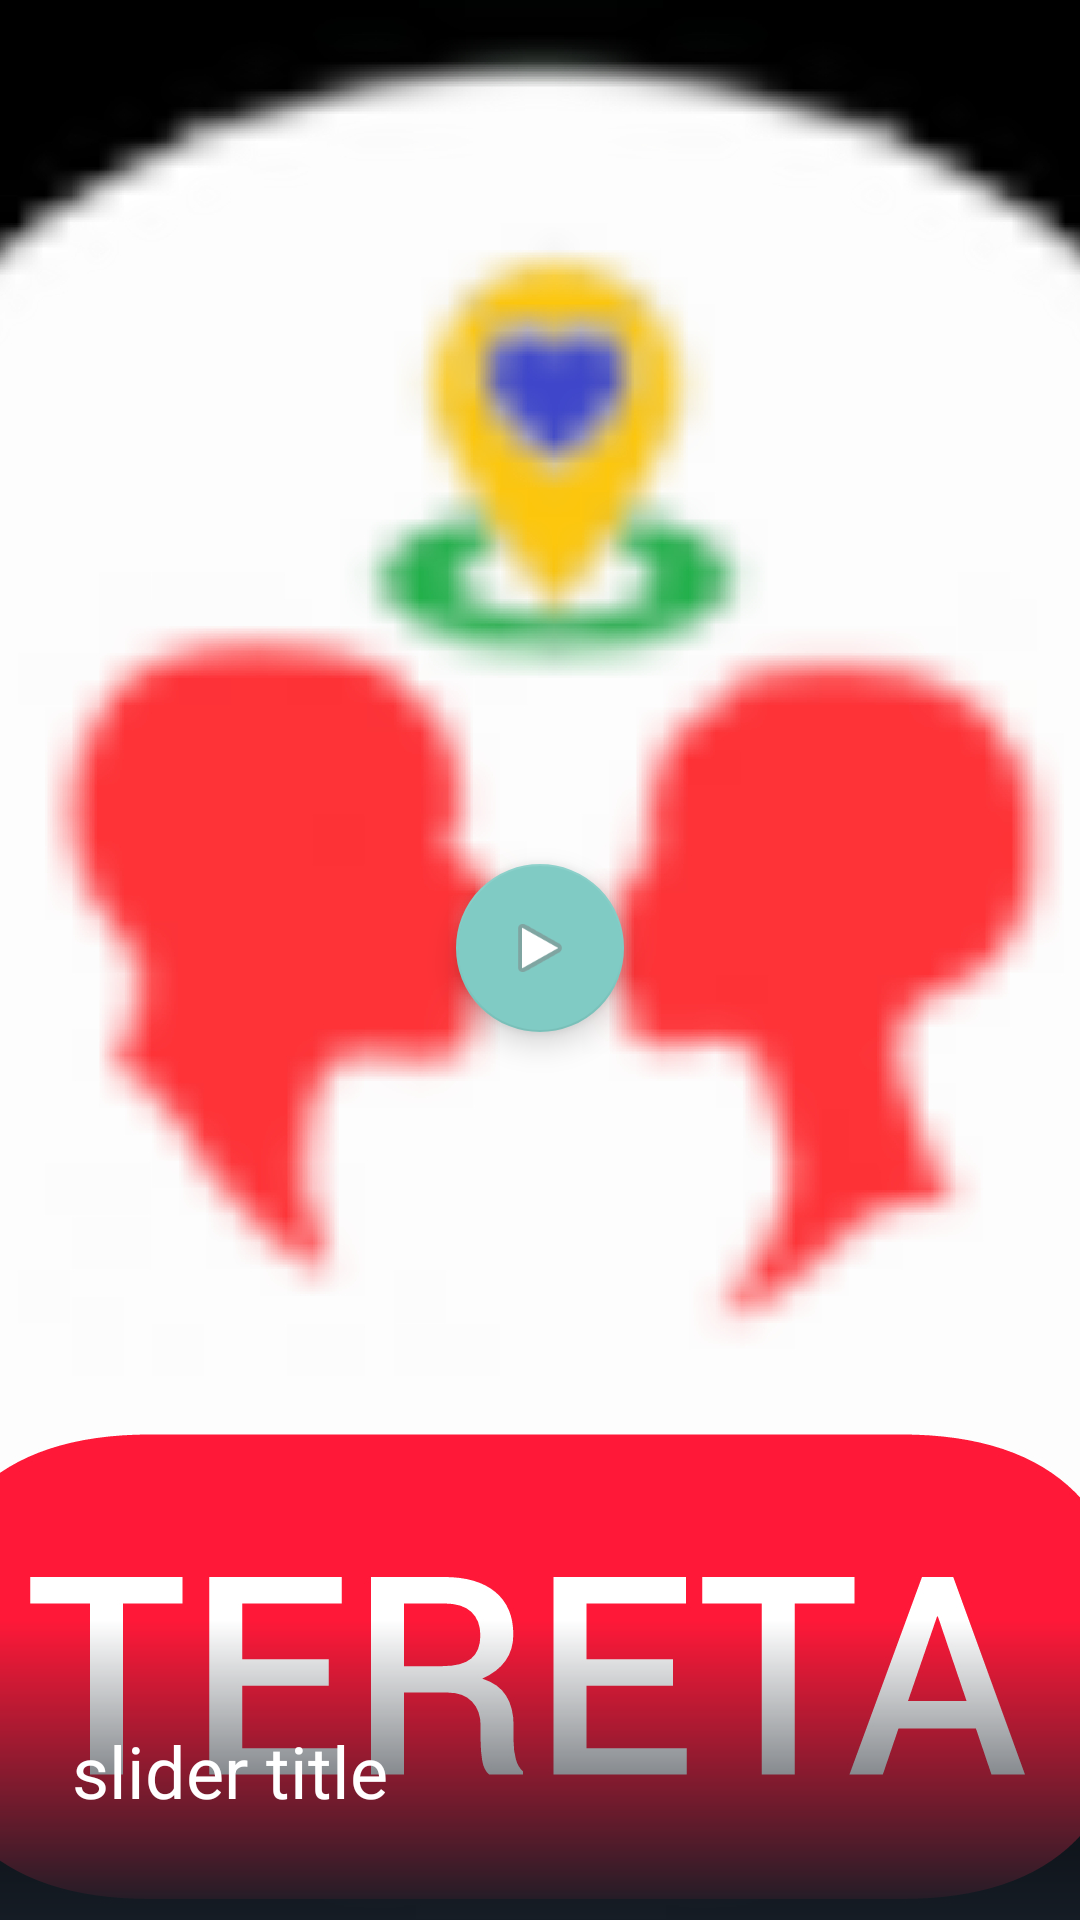

Named icons in this screenshot (1080px x 1920px) and their centers, point (x, y):
play: point (540, 948)
